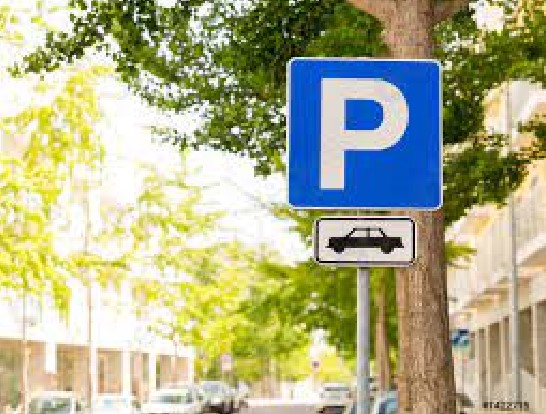Parking: (283, 56, 442, 215)
